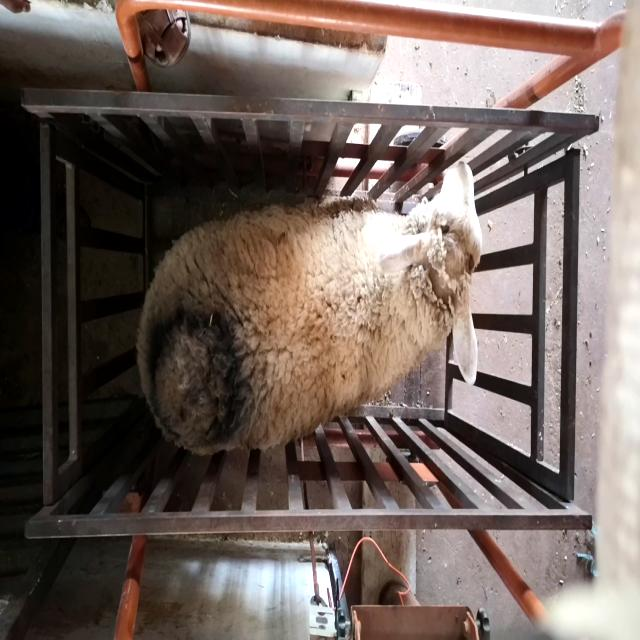sheep: (136, 161, 483, 456)
